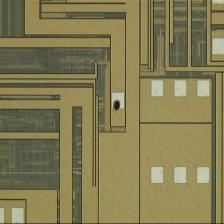PARTICLE: (110, 98, 126, 114)
